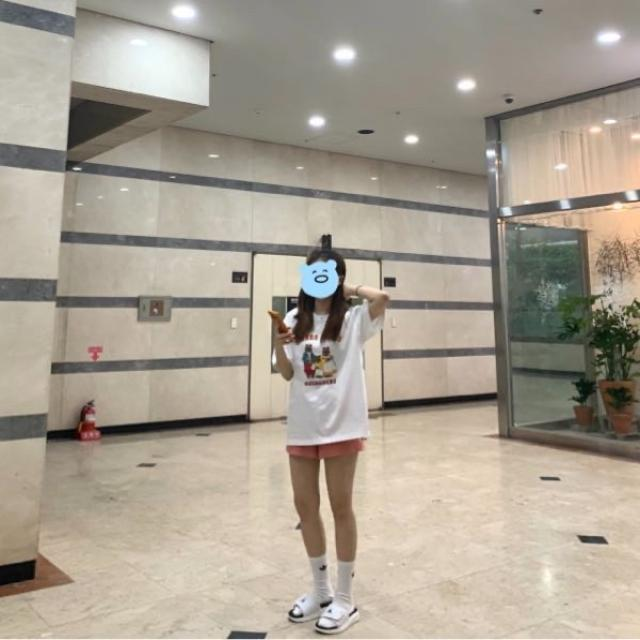shortpants: (285, 434, 366, 461)
shortsleeve: (271, 295, 381, 447)
